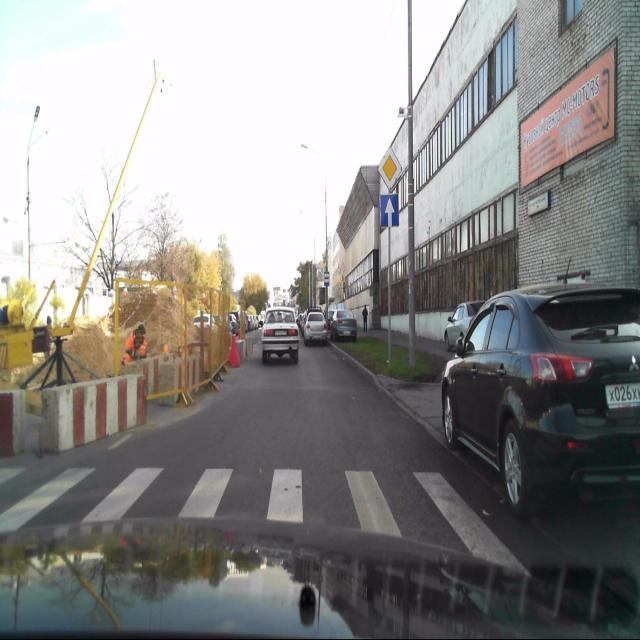object: (388, 228, 392, 370)
road sign: (377, 145, 403, 195), (379, 191, 400, 228)
